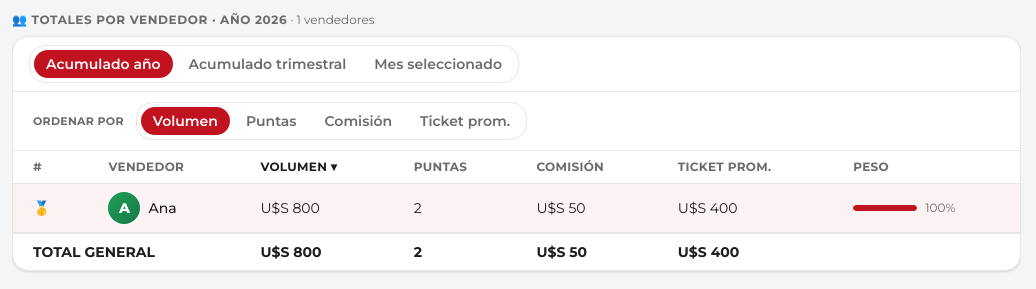
Scenario: TotalesVendedores — el selector de período, encima de la tabla › el mes seleccionado es el de arriba del tablero
The image size is (1036, 289).
Click the button "Mes seleccionado". click: (438, 64)
box: [362, 50, 514, 78]
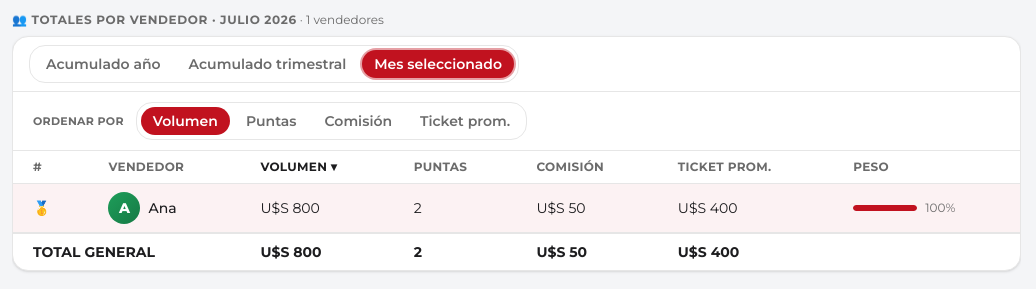
Result: the heading "👥 Totales por vendedor · Julio 2026 · 1 vendedores" is shown at [12, 12, 384, 27]
